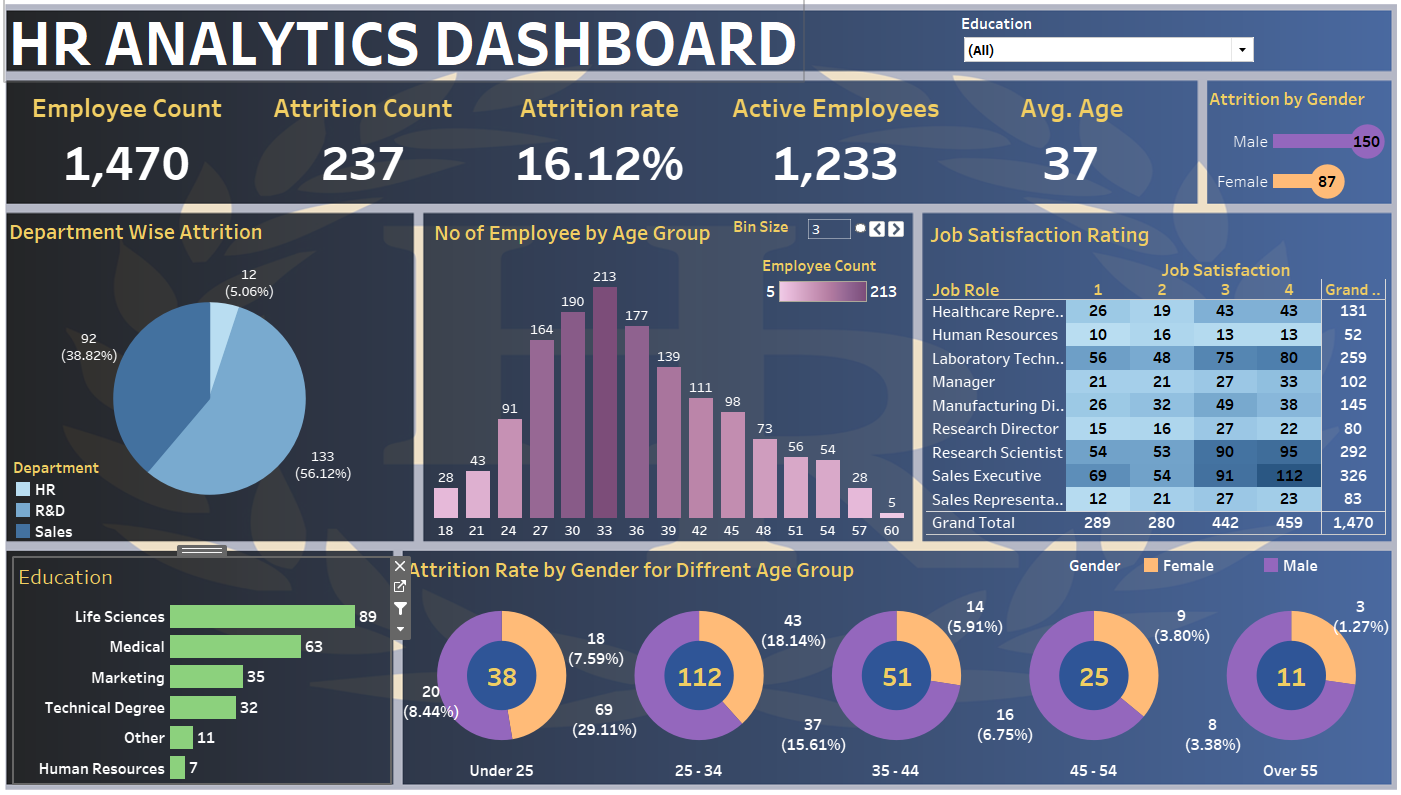

Layout of this report page (visuals, bound fields, positions):
{"tool":"tableau","page":{"name":"Hr Analytics Dashboard","canvas":[1500,810],"ordinal":0},"visuals":[{"type":"text","box":[56,7,798,82]},{"type":"image","param":"Image/Slide5.PNG","box":[8,8,1484,794]},{"type":"filter","title":"Department Wise Attrition ","param":"[federated.0u7p8ec1x6aarl1fcg515063vzd4].[none:Education:nk]","box":[1012,21,296,52]},{"type":"worksheet","title":"Attrition by Gender ","mark":"Automatic","rows":["Gender"],"cols":["Calculation_189714181451702272","Calculation_189714181451702272"],"box":[1256,90,184,119]},{"type":"worksheet","title":"KPI","mark":"Automatic","box":[60,92,1181,115]},{"type":"worksheet","title":"Department Wise Attrition ","mark":"Pie","box":[56,221,409,328]},{"type":"worksheet","title":"No of Employee by Age Group","mark":"Automatic","rows":["Employee Count"],"cols":["Age (bin)"],"box":[481,222,478,326]},{"type":"parameter","param":"[Parameters].[Parameter 1]","box":[784,224,174,30]},{"type":"worksheet","title":"Job Satisfaction Rating","mark":"Square","rows":["Job Role"],"cols":["Job Satisfaction"],"box":[977,224,460,319]},{"type":"legend","title":"No of Employee by Age Group","param":"[federated.0u7p8ec1x6aarl1fcg515063vzd4].[sum:Employee Count:qk]","box":[813,263,140,88]},{"type":"legend","title":"Department Wise Attrition ","param":"[federated.0u7p8ec1x6aarl1fcg515063vzd4].[none:Department:nk]","box":[64,465,140,85]},{"type":"worksheet","title":"Attrition Rate by Gender for Diffrent Age Group","mark":"Pie","rows":["Calculation_189714181775437829","Calculation_189714181775437829"],"cols":["CF_age band"],"box":[454,559,987,231]},{"type":"legend","title":"Attrition Rate by Gender for Diffrent Age Group","param":"[federated.0u7p8ec1x6aarl1fcg515063vzd4].[none:Gender:nk]","box":[1120,563,319,34]},{"type":"worksheet","title":"Education","mark":"Automatic","rows":["Education Field"],"cols":["Calculation_189714181451702272"],"box":[65,566,376,225]}]}

Visuals, with their boxes in screenshot pixels (x1, y1, x2, y2):
text: box(1, 0, 791, 77)
image: box(0, 0, 1400, 783)
"Department Wise Attrition " filter: box(947, 10, 1240, 61)
"Attrition by Gender " worksheet: box(1189, 78, 1371, 196)
"KPI" worksheet: box(5, 80, 1174, 194)
"Department Wise Attrition " worksheet (Pie marks): box(1, 208, 406, 533)
"No of Employee by Age Group" worksheet: box(421, 209, 895, 532)
parameter: box(721, 211, 894, 241)
"Job Satisfaction Rating" worksheet (Square marks): box(913, 211, 1368, 527)
"No of Employee by Age Group" legend: box(750, 249, 889, 337)
"Department Wise Attrition " legend: box(9, 449, 147, 534)
"Attrition Rate by Gender for Diffrent Age Group" worksheet (Pie marks): box(395, 542, 1372, 771)
"Attrition Rate by Gender for Diffrent Age Group" legend: box(1054, 546, 1370, 580)
"Education" worksheet: box(10, 549, 382, 772)
